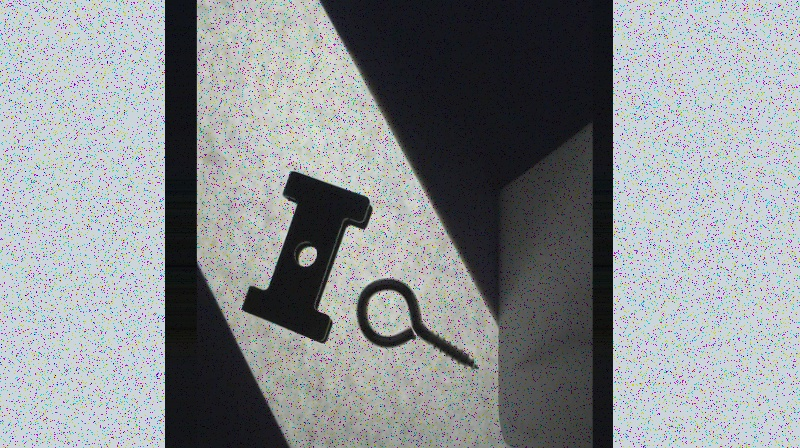O001: (355, 276, 478, 374)
O002: (241, 172, 373, 347)
